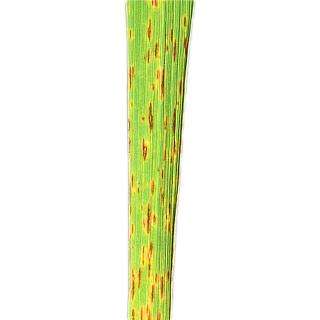Bercak-Cokelat-Sempit: (126, 0, 194, 320)
